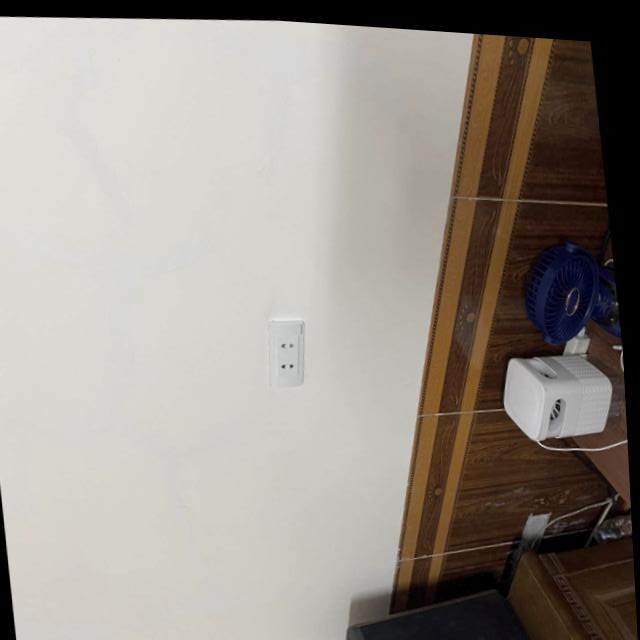outlet: (262, 318, 311, 391)
